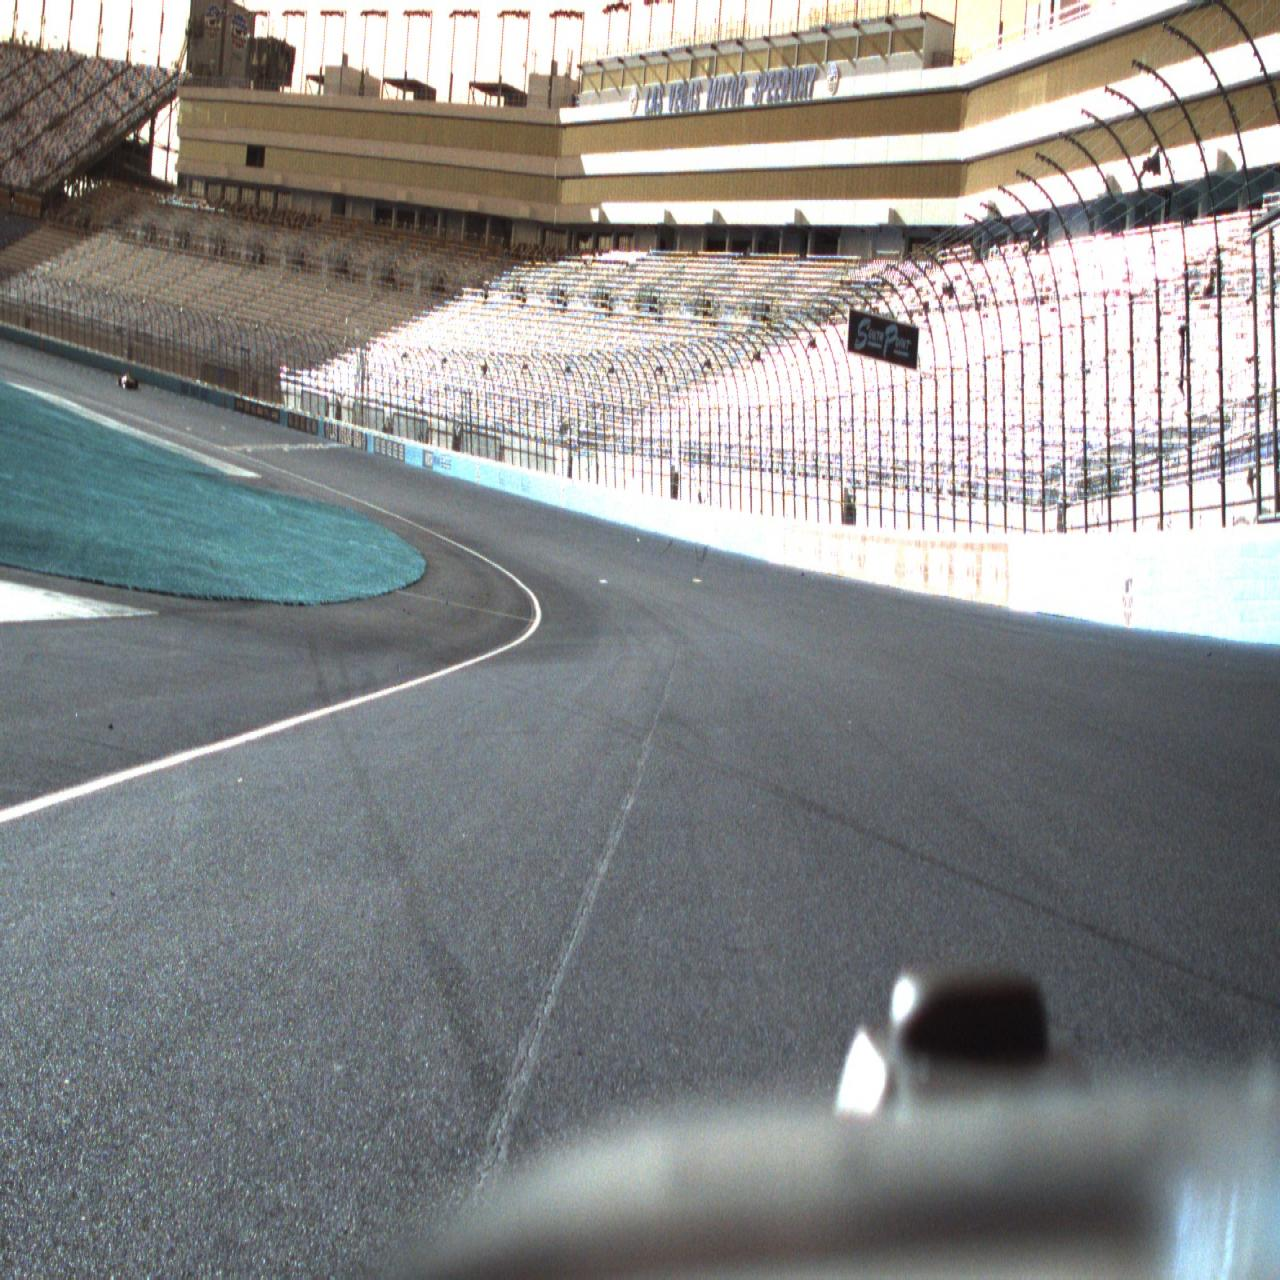AV: (117, 369, 138, 389)
Wheel: (125, 380, 129, 389), (136, 379, 138, 388), (118, 379, 121, 387)
